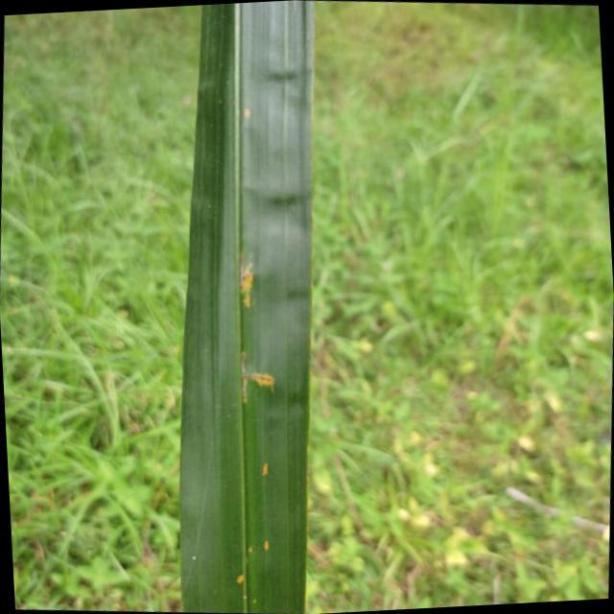Boron: (174, 0, 307, 614)
